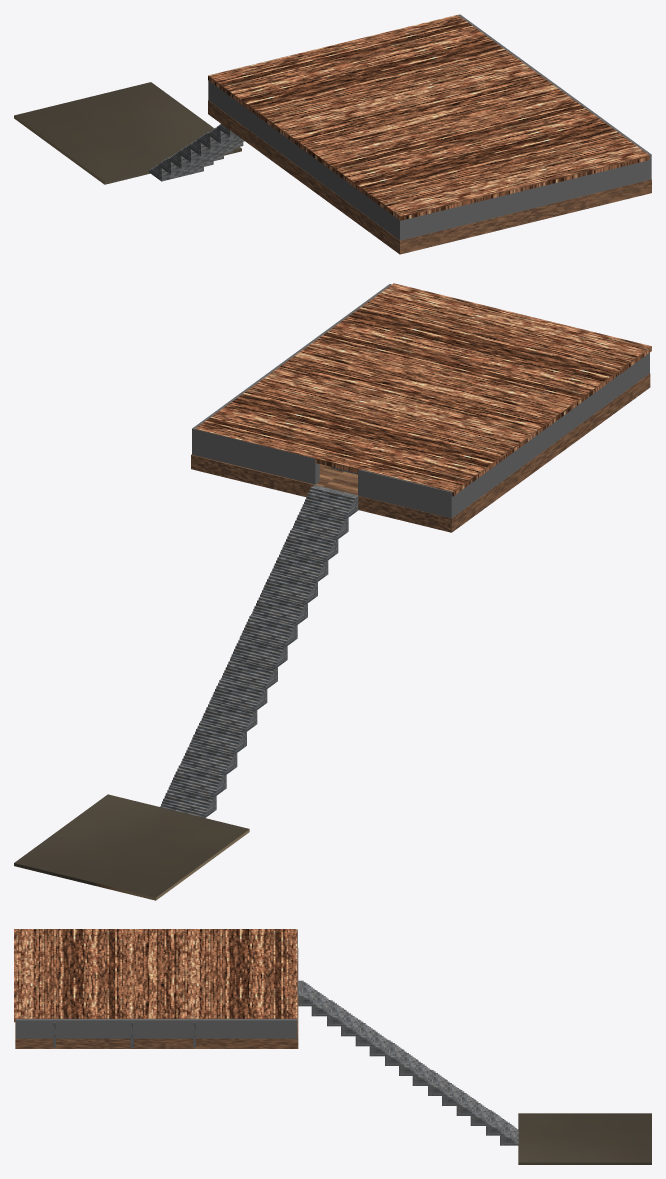
The model's file is maze made by me8.glb.
The picture shows the model from 3 angles, top to bottom: view 1: azimuth 30°, elevation 25°; view 2: azimuth 150°, elevation 25°; view 3: azimuth 270°, elevation 25°; orthographic projection. The views are drawn at different scales.
Visible parts, largest first — view 1: roof-col, room-col, -col.010, 1; view 2: roof-col, 1, room-col, -col.010; view 3: roof-col, room-col, -col.010, 1.
Boxes of the visible parts, bbox=[...] form: roof-col: bbox=[208, 15, 649, 220]; room-col: bbox=[208, 14, 651, 254]; -col.010: bbox=[14, 82, 241, 184]; 1: bbox=[149, 124, 244, 181]; roof-col: bbox=[195, 283, 651, 496]; 1: bbox=[160, 485, 358, 817]; room-col: bbox=[191, 284, 650, 532]; -col.010: bbox=[14, 794, 249, 900]; roof-col: bbox=[14, 929, 297, 1022]; room-col: bbox=[15, 929, 298, 1048]; -col.010: bbox=[518, 1113, 651, 1164]; 1: bbox=[297, 980, 518, 1145].
Size of what is drawn, in the model's own units: 37.23 by 32.36 by 110.
Materials: 29 (28 with a texture image).
